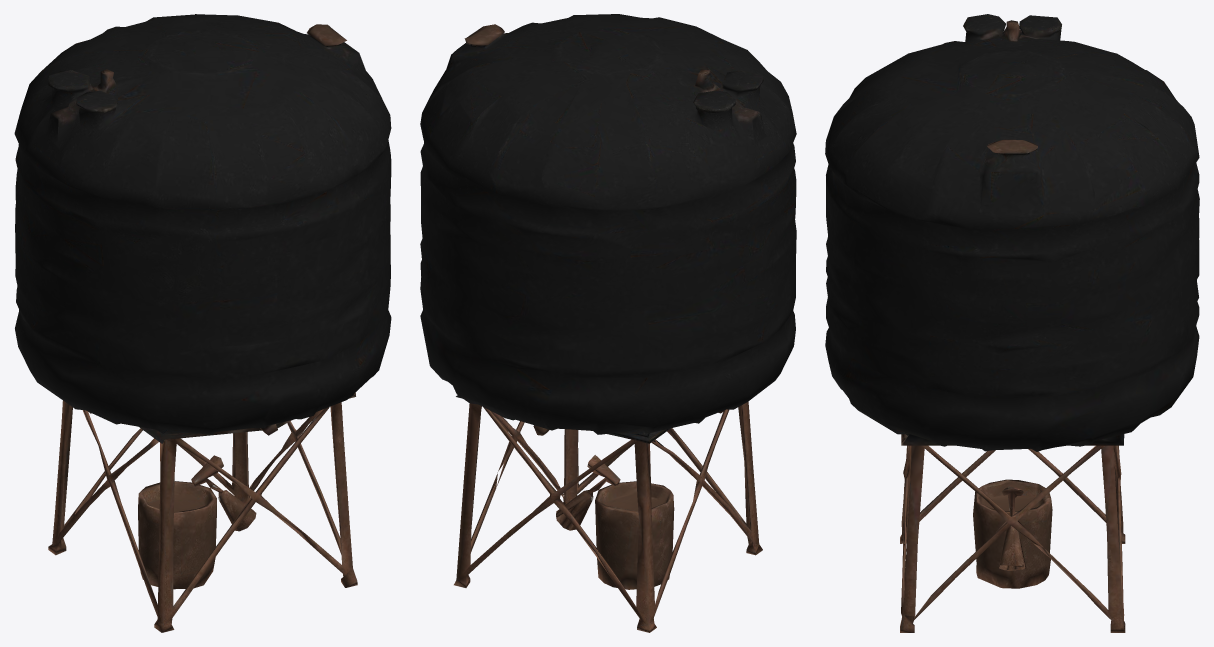
The model's file is water_tank.glb.
3 renders of one model, left to right at view 1: azimuth 30°, elevation 25°; view 2: azimuth 150°, elevation 25°; view 3: azimuth 270°, elevation 25°, orthographic.
Size of the model in its own units: 1.18 by 1.79 by 1.17.
Materials: 1 (1 with a texture image).
